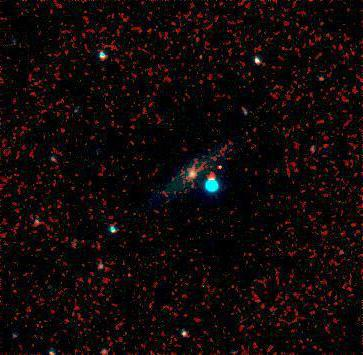star: (202, 152, 232, 182)
